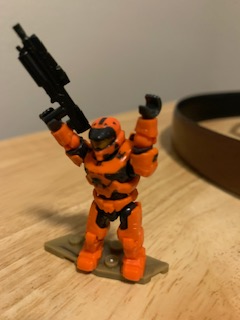rifle: (10, 21, 91, 136)
spartan: (38, 91, 163, 288)
up: (37, 92, 164, 198)
